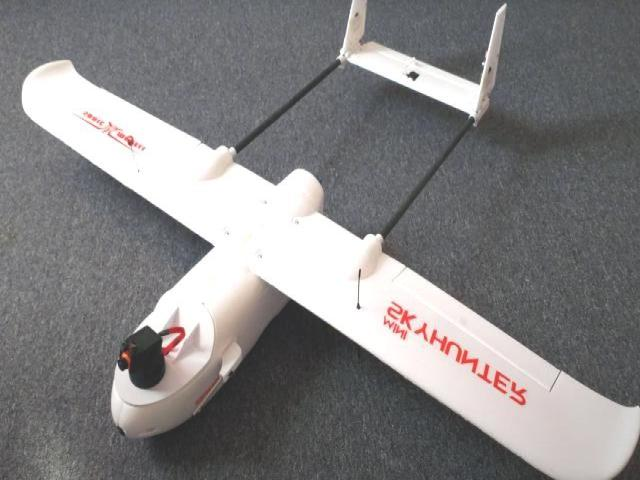iha: (21, 8, 639, 477)
